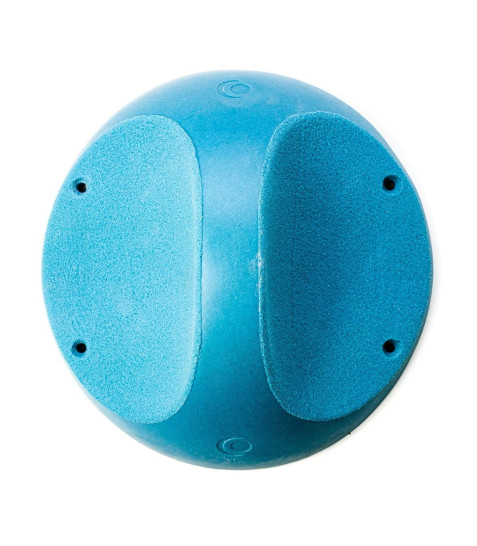hold: (45, 71, 431, 467)
